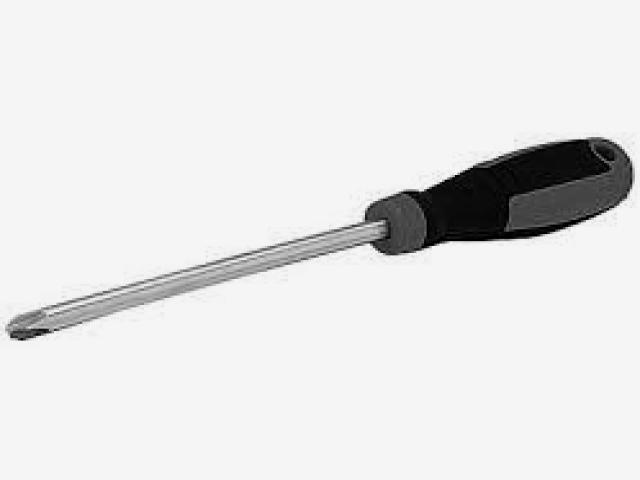Needle-nose pliers: (6, 138, 631, 339)
